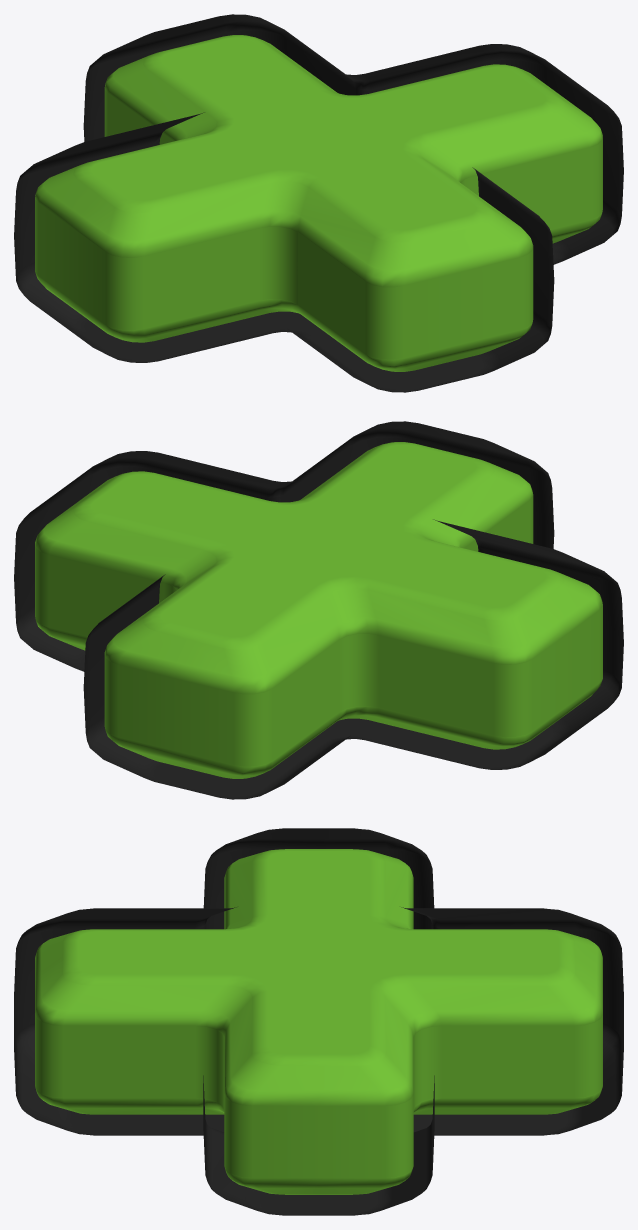
The model's file is Plus.fbx.
The picture shows the model from 3 angles, top to bottom: view 1: azimuth 30°, elevation 25°; view 2: azimuth 150°, elevation 25°; view 3: azimuth 270°, elevation 25°; orthographic projection.
Visible parts, largest first — view 1: Plane.013, Plane.014; view 2: Plane.013, Plane.014; view 3: Plane.013, Plane.014.
Part boxes in pixels (x1,y1,x2,y2): Plane.013: (35,35,602,371); Plane.014: (14,14,623,392); Plane.013: (35,442,602,778); Plane.014: (14,421,623,799); Plane.013: (35,849,602,1194); Plane.014: (14,828,623,1215).
Size of the model in its own units: 170 by 54.16 by 170.
